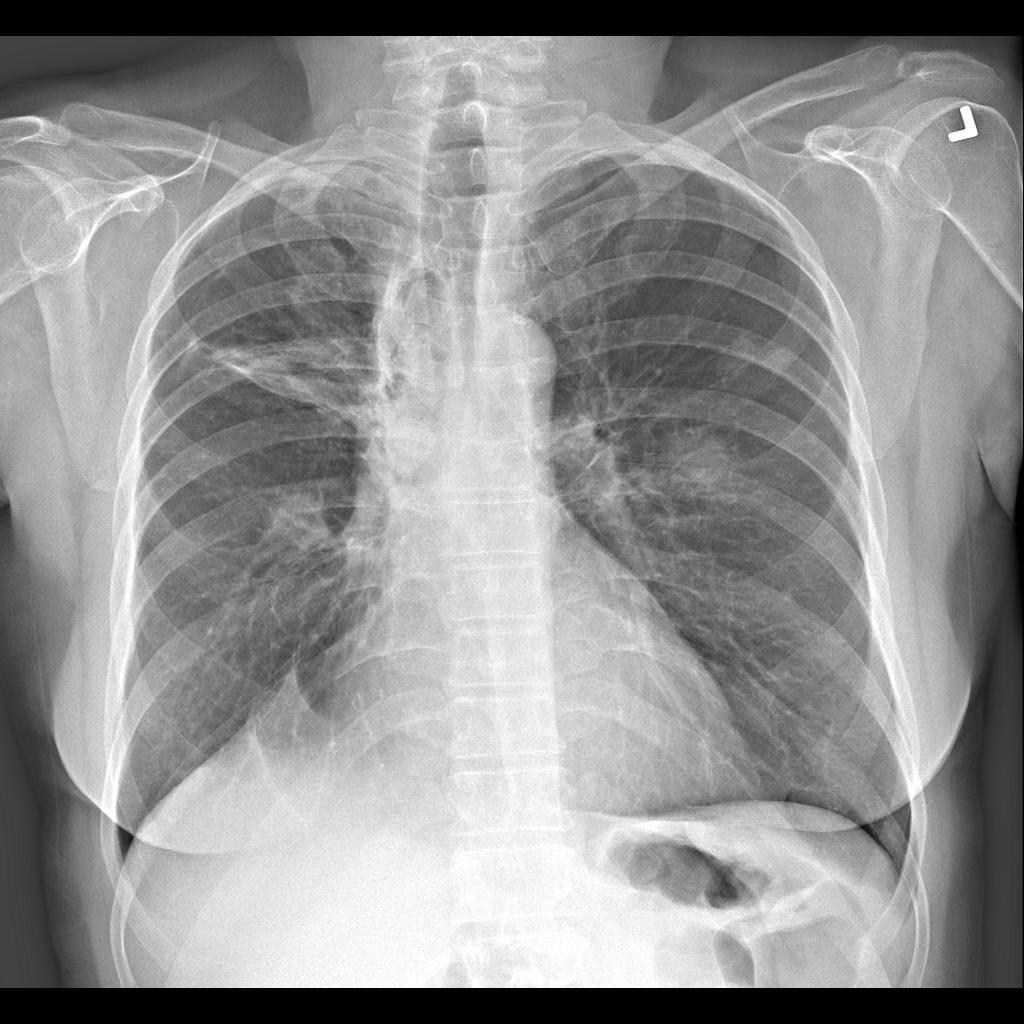Nodule: (259, 481, 339, 559), (660, 424, 736, 503), (723, 320, 777, 375)
